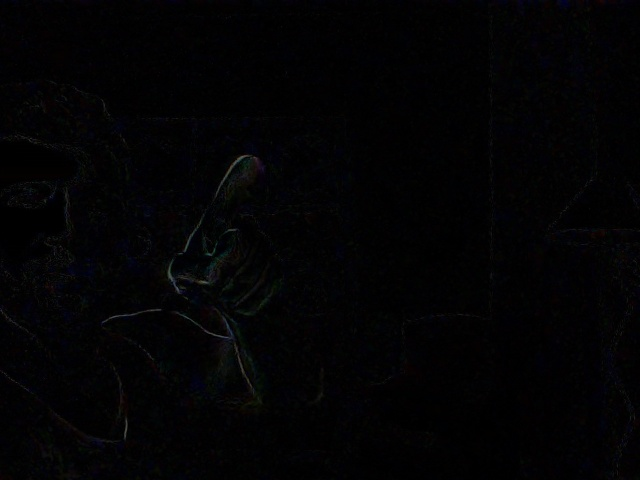hand_po: (160, 146, 304, 324)
